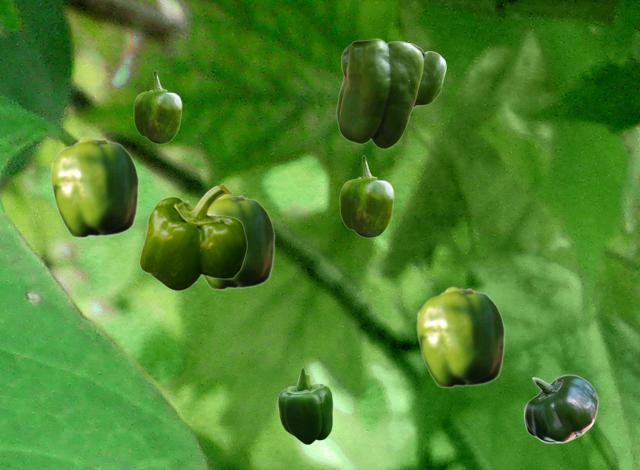bell_pepper: (139, 184, 246, 290), (336, 38, 423, 148), (416, 286, 504, 387), (50, 136, 138, 237), (202, 194, 274, 289), (523, 374, 597, 442), (339, 155, 393, 237), (277, 367, 332, 444), (133, 70, 181, 143), (412, 43, 445, 106)
